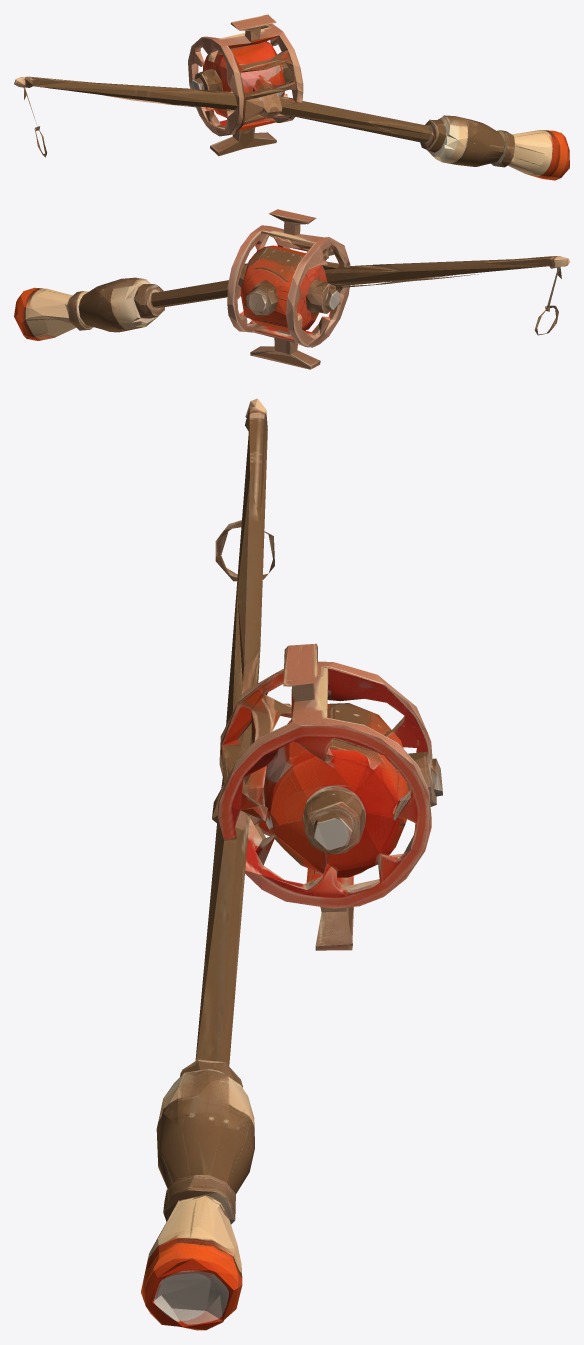
File: fishing_rod.glb
The picture shows the model from 3 angles, top to bottom: view 1: azimuth 30°, elevation 25°; view 2: azimuth 150°, elevation 25°; view 3: azimuth 270°, elevation 25°; orthographic projection. The views are drawn at different scales.
Bounding box in the file's own units: 1.9 × 0.7306 × 0.4672.
Materials: 1 (1 with a texture image).
